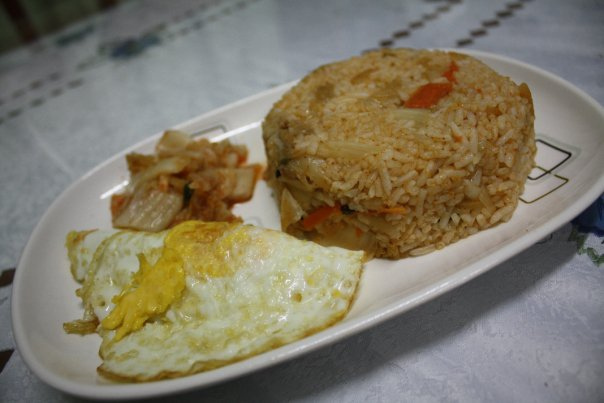fried egg: (49, 223, 363, 383)
plain rice: (273, 45, 534, 240)
